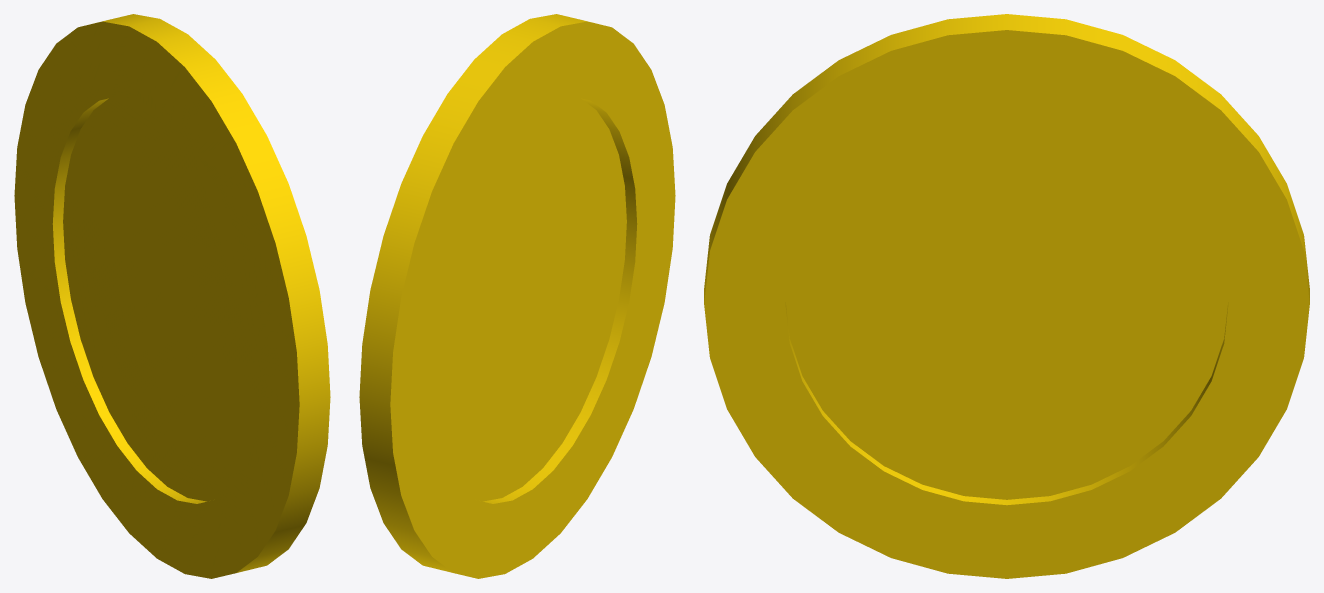
File: coin.glb
The picture shows the model from 3 angles, left to right: view 1: azimuth 30°, elevation 25°; view 2: azimuth 150°, elevation 25°; view 3: azimuth 270°, elevation 25°; orthographic projection. The views are drawn at different scales.
Parts seen in each view (by area): view 1: Gold Coin; view 2: Gold Coin; view 3: Gold Coin.
Boxes of the visible parts, x1=… form: Gold Coin: x1=14, y1=14, x2=330, y2=578; Gold Coin: x1=359, y1=14, x2=675, y2=578; Gold Coin: x1=704, y1=14, x2=1309, y2=578.
Bounding box in the file's own units: 0.0125 × 0.2 × 0.2.
